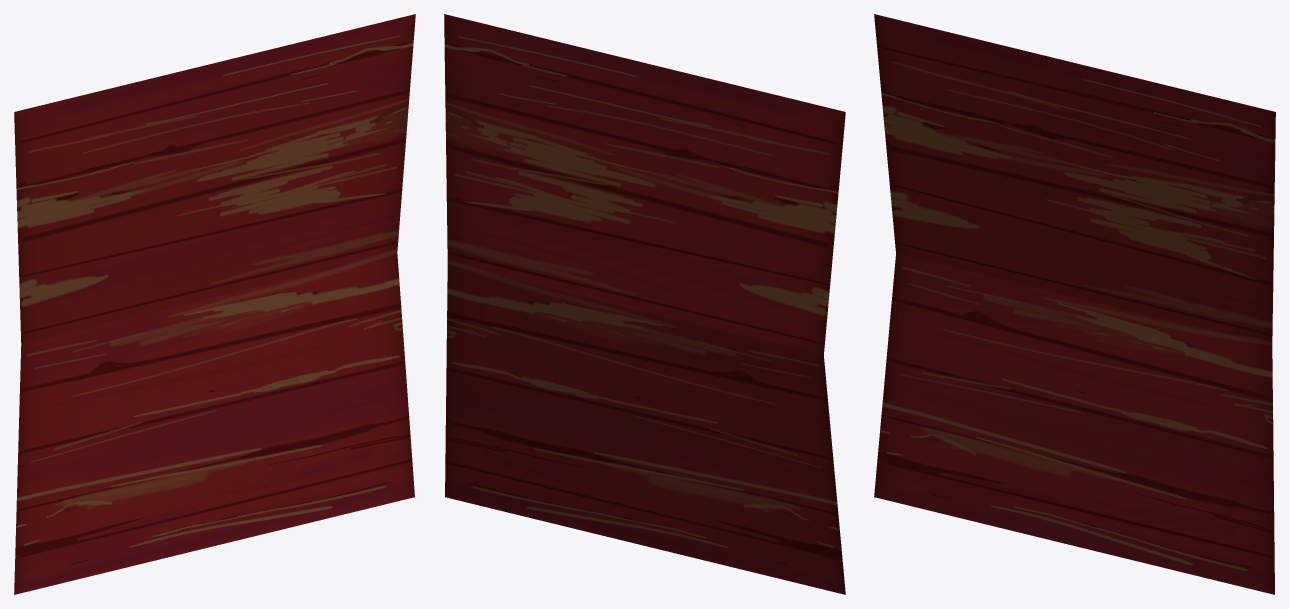
Rendered from SM_red_Wall_only.fbx.
3 views of the same model, side by side, from view 1: azimuth 30°, elevation 25°; view 2: azimuth 150°, elevation 25°; view 3: azimuth 330°, elevation 25° (orthographic).
Parts seen in each view (by area): view 1: floor_big.021; view 2: floor_big.021; view 3: floor_big.021.
Boxes of the visible parts, x1,y1,x2,y2 form: floor_big.021: (14, 14, 415, 594); floor_big.021: (444, 14, 845, 594); floor_big.021: (874, 14, 1275, 594).
Size of the model in its own units: 174 by 200 by 5.59.
Materials: 1 (1 with a texture image).
